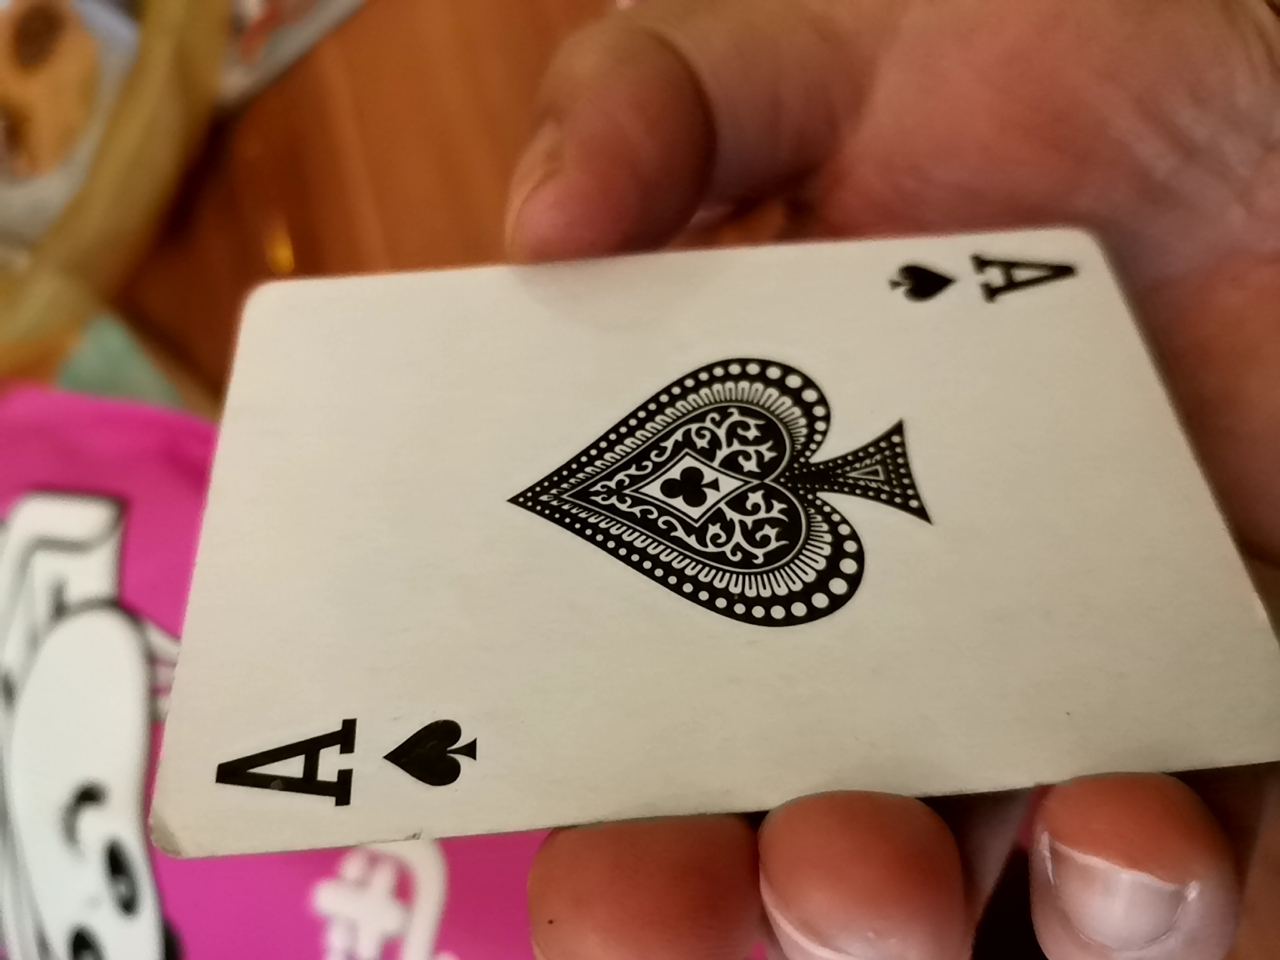ht a: (122, 207, 1260, 924)
